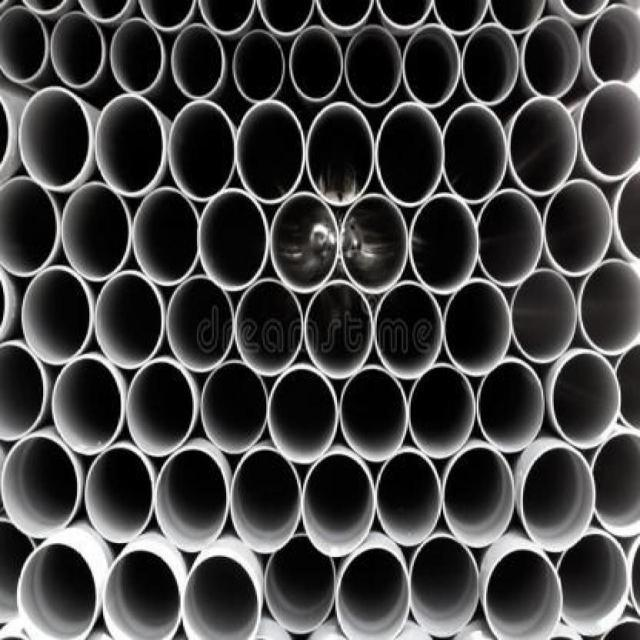pipe: (0, 434, 80, 539), (520, 447, 596, 552), (16, 543, 98, 640), (155, 448, 229, 553), (555, 532, 629, 637), (230, 446, 301, 554), (18, 88, 92, 191), (94, 94, 167, 198), (443, 445, 516, 549), (302, 453, 375, 557), (197, 189, 270, 291), (265, 533, 338, 635), (409, 193, 480, 296), (102, 549, 182, 640), (22, 266, 95, 365), (235, 100, 305, 203), (53, 355, 125, 455), (485, 548, 564, 639), (411, 535, 480, 639), (307, 101, 375, 206), (271, 192, 341, 294), (508, 96, 579, 196), (376, 102, 444, 206), (336, 544, 410, 639), (268, 365, 339, 464), (84, 446, 155, 545), (549, 350, 620, 448), (341, 194, 409, 296), (61, 183, 131, 282), (95, 272, 166, 369), (235, 278, 304, 377), (169, 101, 237, 201), (182, 554, 262, 639), (132, 188, 200, 287), (305, 280, 373, 379), (375, 281, 443, 380), (443, 103, 508, 205), (166, 275, 234, 372), (443, 279, 511, 376), (127, 360, 196, 455), (545, 179, 613, 275), (340, 366, 408, 461), (477, 190, 544, 286), (0, 177, 62, 279), (477, 361, 545, 454), (201, 361, 269, 454), (408, 365, 476, 458), (376, 450, 441, 546), (512, 268, 577, 363), (579, 81, 639, 183), (577, 258, 639, 355), (591, 429, 639, 539), (403, 23, 460, 108), (522, 16, 581, 98), (0, 340, 48, 440), (344, 25, 402, 107), (462, 24, 519, 106), (585, 4, 639, 85), (51, 11, 105, 90), (172, 23, 226, 99), (110, 18, 164, 93), (289, 26, 343, 100), (0, 5, 49, 84), (233, 30, 284, 103), (613, 168, 640, 273), (197, 0, 257, 37), (259, 0, 318, 35), (432, 0, 488, 35), (376, 0, 434, 33), (488, 1, 545, 34), (315, 0, 373, 31), (141, 2, 197, 31), (78, 0, 135, 26)
